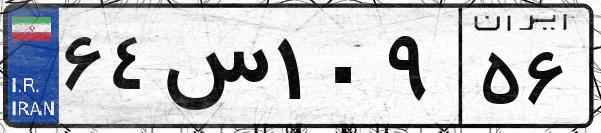0: (330, 28, 385, 110)
1: (270, 28, 330, 110)
4: (110, 28, 158, 98)
5: (475, 38, 525, 113)
6: (57, 26, 110, 100), (525, 38, 570, 115)
9: (385, 28, 445, 110)
س: (158, 20, 270, 120)
